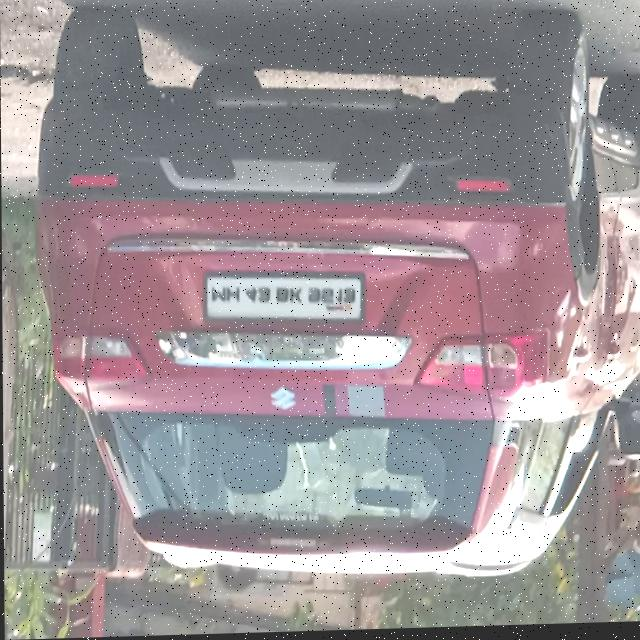plate: (198, 265, 370, 329)
